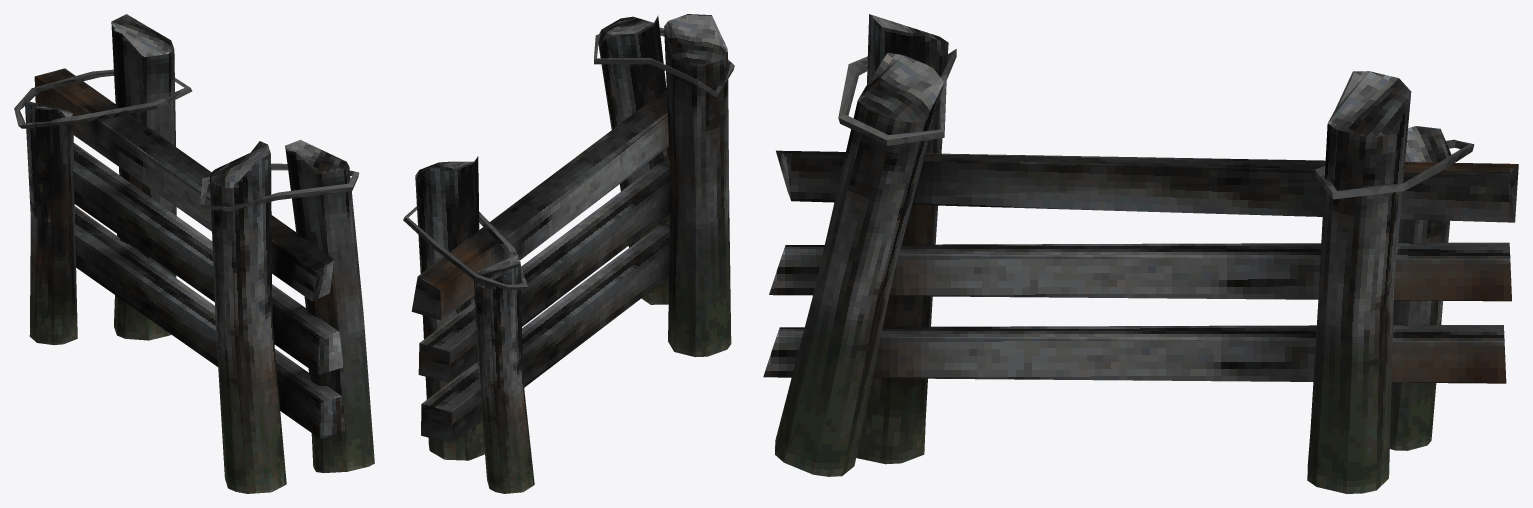
Rendered from big_fence_02.glb.
3 renders of one model, left to right at view 1: azimuth 30°, elevation 25°; view 2: azimuth 150°, elevation 25°; view 3: azimuth 270°, elevation 25°, orthographic. The views are drawn at different scales.
Visible parts, largest first — view 1: big_fence_02; view 2: big_fence_02; view 3: big_fence_02.
Boxes of the visible parts, box(x1,y1,x2,y2) form: big_fence_02: box(14, 14, 374, 493); big_fence_02: box(403, 14, 734, 493); big_fence_02: box(763, 14, 1518, 493).
Size of the model in its own units: 1.77 by 3.83 by 6.1.
Materials: 1 (1 with a texture image).
